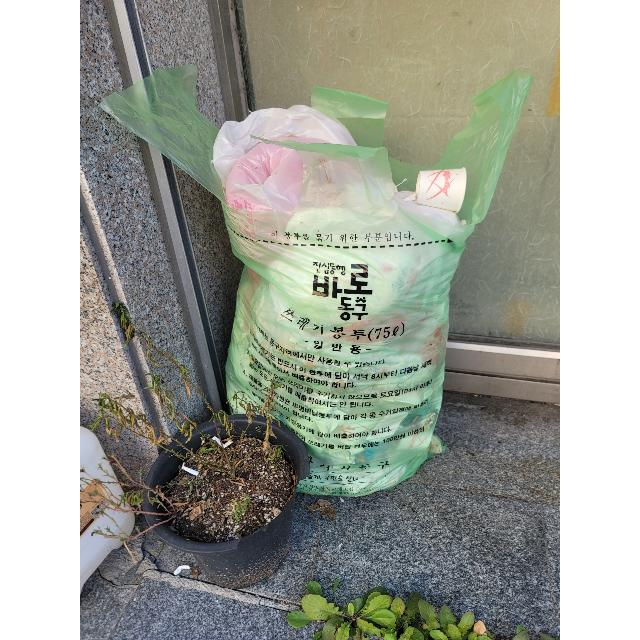general_trashbag: (208, 93, 474, 496)
